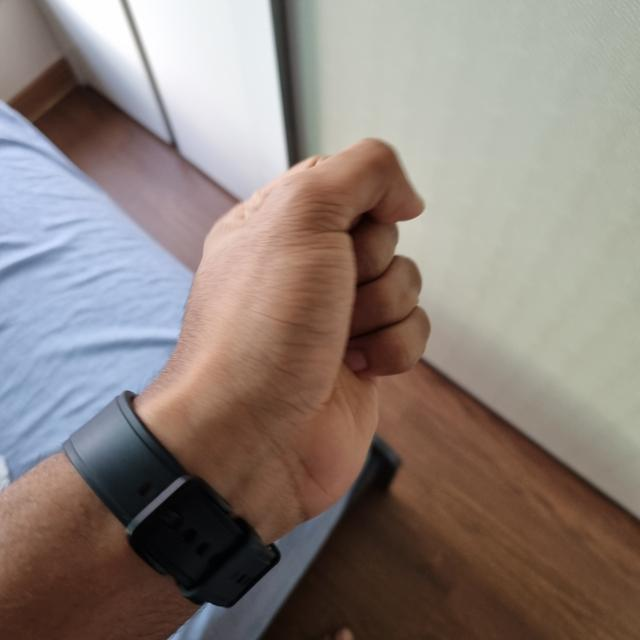Rock: (151, 135, 421, 492)
